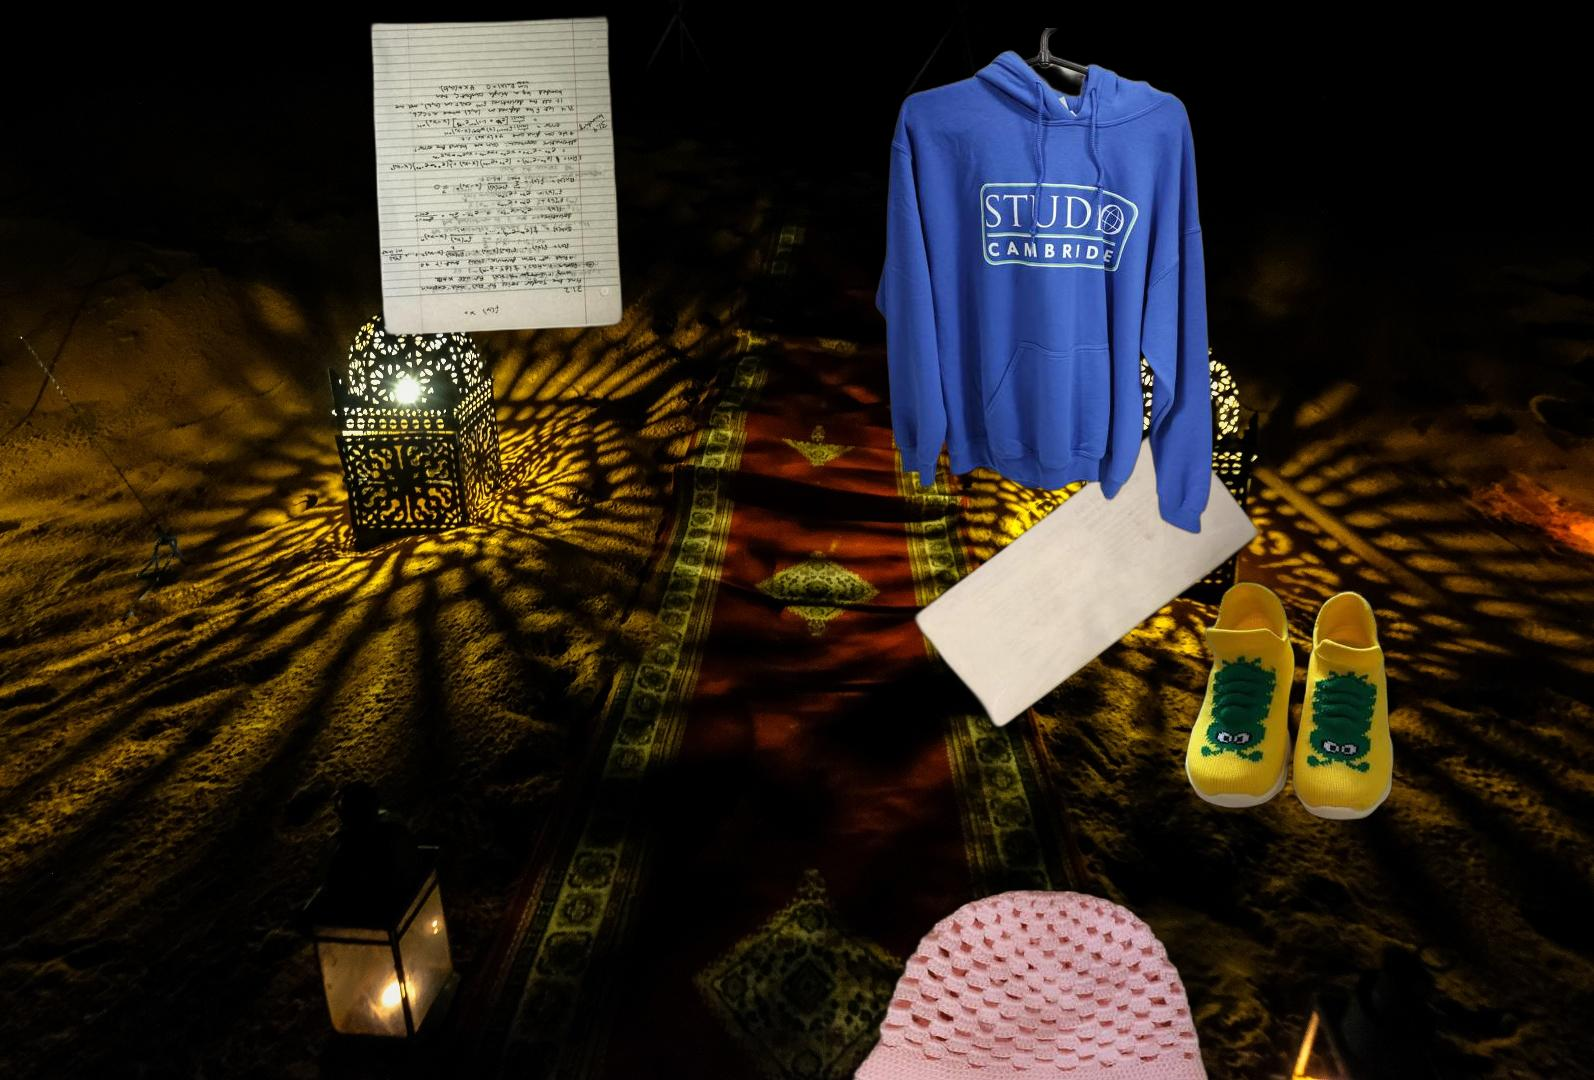clothes: (872, 28, 1216, 539), (846, 886, 1220, 1080)
paper: (909, 416, 1263, 732), (365, 12, 628, 338)
shoes: (1181, 577, 1397, 825)
